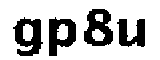8: (83, 8, 113, 51)
g: (11, 15, 43, 59)
p: (47, 15, 79, 60)
u: (113, 17, 150, 50)
